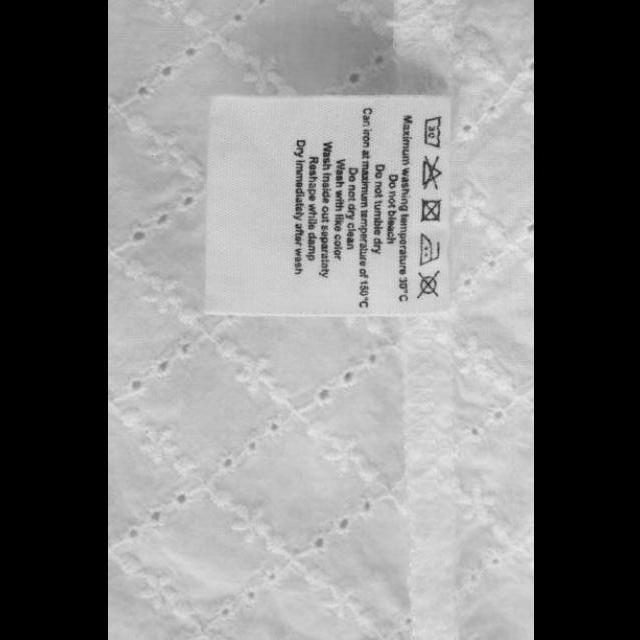30C: (422, 114, 444, 150)
DN_bleach: (418, 154, 444, 193)
DN_dry_clean: (413, 268, 443, 302)
DN_tumble_dry: (417, 197, 443, 225)
iron_medium: (416, 230, 444, 268)
